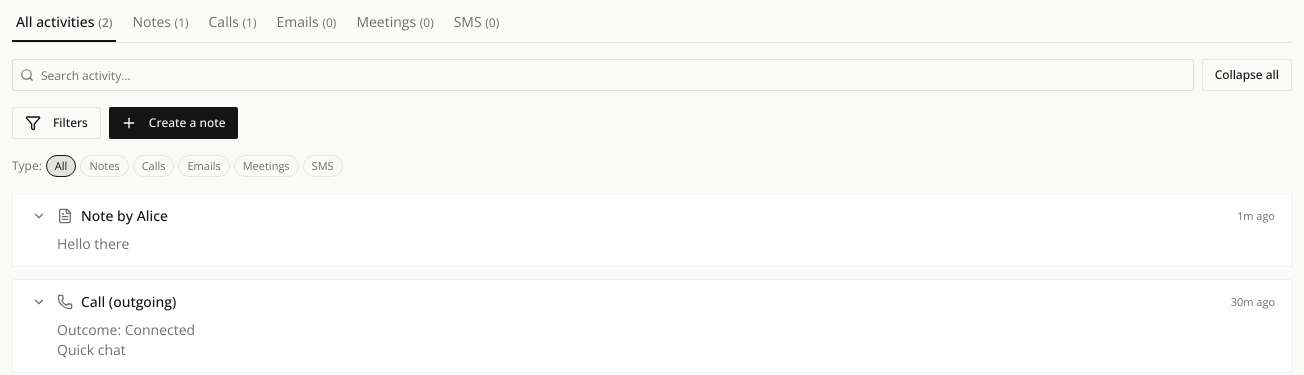
Test: ContactActivityFeed › Item 1c — All-tab Type chips filter in place (do NOT change the active tab)
Click the button "Calls". click: (154, 166)
box: [133, 155, 174, 177]
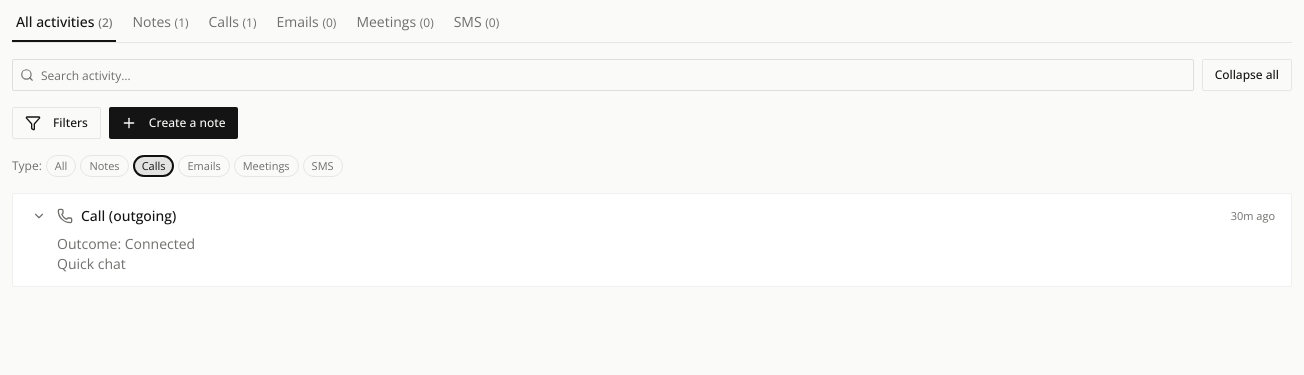
Expected: the heading "Call (outgoing)" is shown, [81, 206, 176, 225]
Now the heading "Note by Alice" is gone
